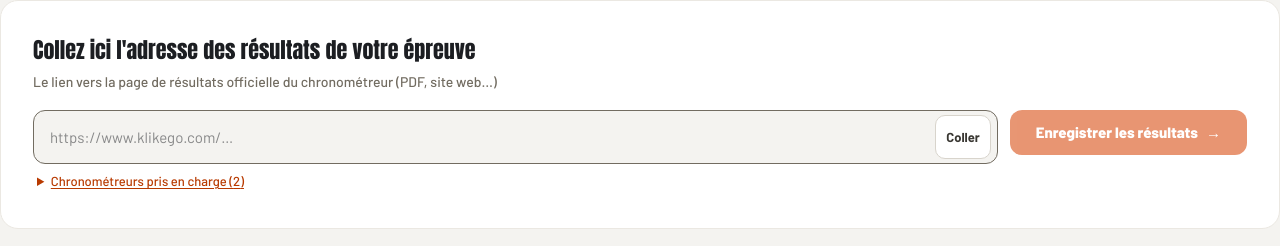
Test: TcnScrapeForm — un seul verdict avant d'essayer (#492, ACT-6) › annonce l'adresse non reconnue une seule fois, et nulle part ailleurs
In the field named "Adresse des résultats": (488, 137) [50,126,925,148], type "https://chronopuce.test/x"
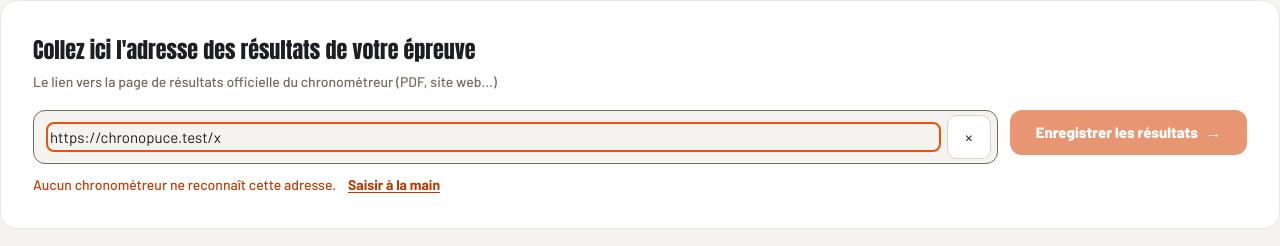
Check: the text "Aucun chronométreur ne reconnaît cette adresse." is shown, box [33,174,336,194]
